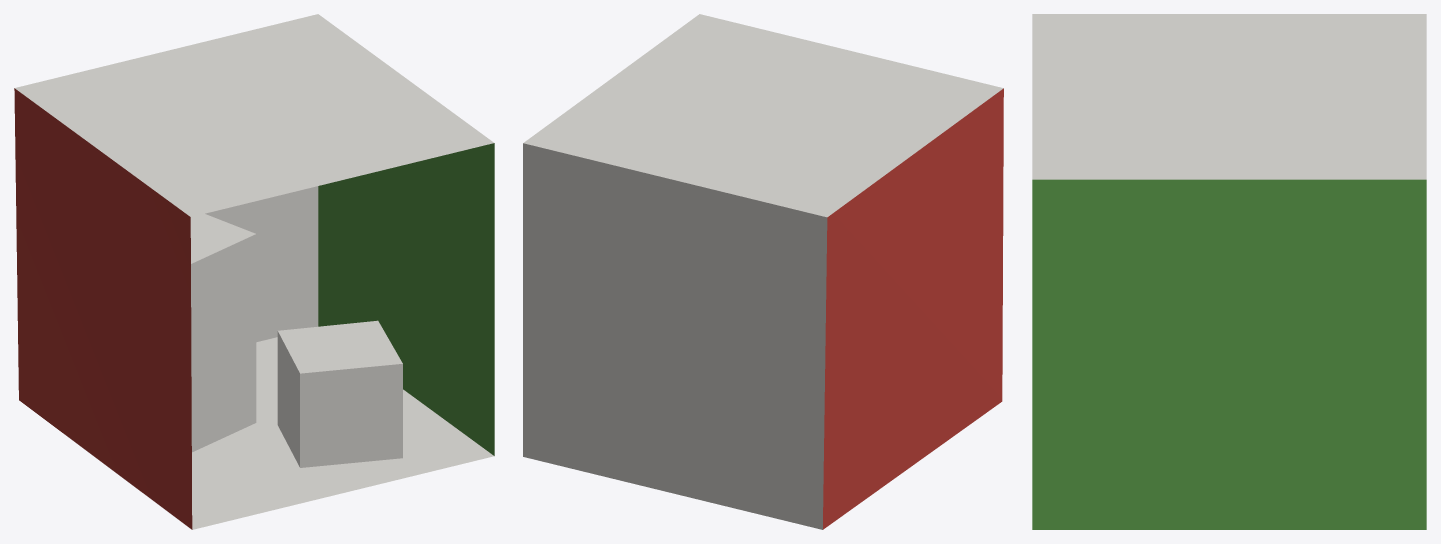
File: cornell_light.glb
The picture shows the model from 3 angles, left to right: view 1: azimuth 30°, elevation 25°; view 2: azimuth 150°, elevation 25°; view 3: azimuth 270°, elevation 25°; orthographic projection. The views are drawn at different scales.
Visible parts, largest first — view 1: Object_5, Object_3, Object_7, Object_4, Object_8, Object_9, Object_2; view 2: Object_2, Object_5, Object_3; view 3: Object_7, Object_3.
Part boxes in pixels (x1,y1,x2,y2): Object_5: [14, 88, 192, 529]; Object_3: [15, 14, 493, 216]; Object_7: [318, 143, 494, 455]; Object_4: [192, 337, 493, 529]; Object_8: [277, 320, 402, 467]; Object_9: [190, 213, 256, 452]; Object_2: [205, 186, 318, 342]; Object_2: [523, 143, 827, 529]; Object_5: [823, 88, 1003, 529]; Object_3: [523, 14, 1003, 217]; Object_7: [1032, 179, 1426, 529]; Object_3: [1032, 14, 1426, 179].
Size of the model in its own units: 2.02 by 1.99 by 2.03.
